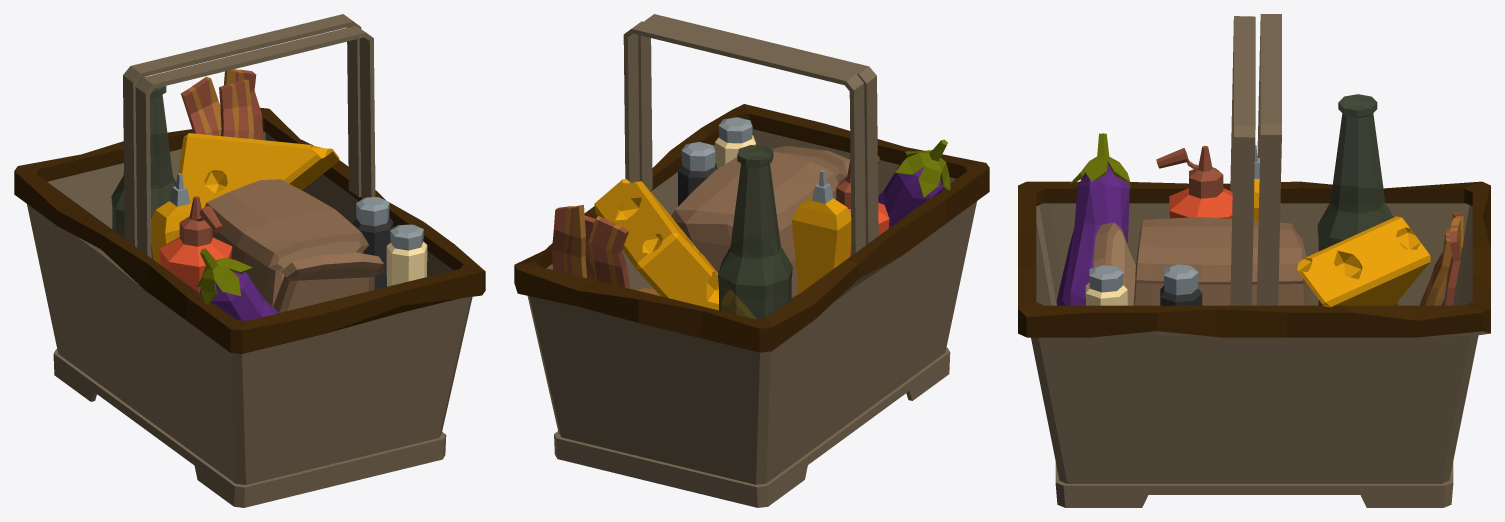
File: IngredientsModel.glb
The picture shows the model from 3 angles, left to right: view 1: azimuth 30°, elevation 25°; view 2: azimuth 150°, elevation 25°; view 3: azimuth 270°, elevation 25°; orthographic projection. The views are drawn at different scales.
Parts seen in each view (by area): view 1: SM_Basket, BreadLoaf, SwissCheeseWedge, Bacon, KetchupBottle, EggPlant, SM_Bottle_B_04, SaltShaker, PepperShaker, MustardBottle; view 2: SM_Basket, BreadLoaf, SM_Bottle_B_04, SwissCheeseWedge, Bacon, MustardBottle, EggPlant, PepperShaker, SaltShaker, KetchupBottle; view 3: SM_Basket, BreadLoaf, SwissCheeseWedge, SM_Bottle_B_04, EggPlant, KetchupBottle, Bacon, SaltShaker, PepperShaker.
Boxes of the visible parts, x1,y1,x2,y2 form: SM_Basket: [14, 14, 485, 507]; BreadLoaf: [205, 179, 384, 312]; SwissCheeseWedge: [178, 133, 339, 207]; Bacon: [180, 69, 263, 139]; KetchupBottle: [159, 196, 232, 293]; EggPlant: [197, 248, 278, 320]; SM_Bottle_B_04: [111, 76, 176, 258]; SaltShaker: [386, 224, 427, 286]; PepperShaker: [352, 197, 393, 289]; MustardBottle: [151, 173, 202, 264]; SM_Basket: [514, 14, 989, 507]; BreadLoaf: [671, 146, 850, 299]; SM_Bottle_B_04: [718, 145, 792, 319]; SwissCheeseWedge: [594, 179, 755, 318]; Bacon: [552, 205, 630, 288]; MustardBottle: [791, 170, 851, 295]; EggPlant: [878, 139, 950, 228]; PepperShaker: [678, 142, 717, 206]; SaltShaker: [715, 117, 755, 168]; KetchupBottle: [835, 156, 889, 256]; SM_Basket: [1018, 14, 1490, 507]; BreadLoaf: [1093, 217, 1309, 305]; SwissCheeseWedge: [1297, 216, 1430, 307]; SM_Bottle_B_04: [1317, 94, 1397, 305]; EggPlant: [1056, 133, 1130, 305]; KetchupBottle: [1156, 145, 1232, 218]; Bacon: [1420, 211, 1463, 305]; SaltShaker: [1085, 265, 1127, 305]; PepperShaker: [1160, 264, 1202, 305].
Bounding box in the file's own units: 0.4917 × 0.6738 × 0.7499.
